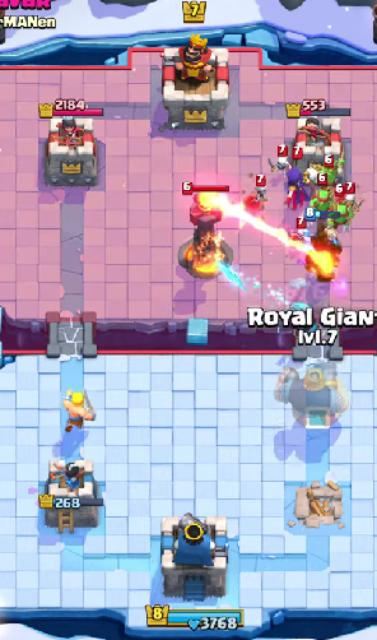ally_melee: (63, 387, 98, 432)
ally_tank: (305, 207, 345, 259)
enemy_building: (178, 182, 237, 279)
enemy_melee: (267, 144, 292, 174), (344, 181, 365, 215), (292, 215, 311, 251), (252, 174, 271, 205)
enemy_ranged: (282, 146, 310, 210), (311, 152, 345, 186), (331, 184, 352, 231), (312, 173, 335, 215)
